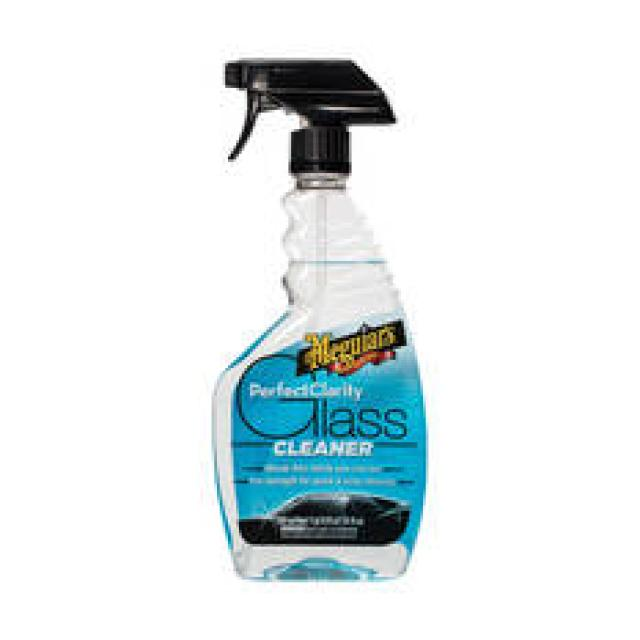winwinshield_washer: (203, 54, 431, 586)
